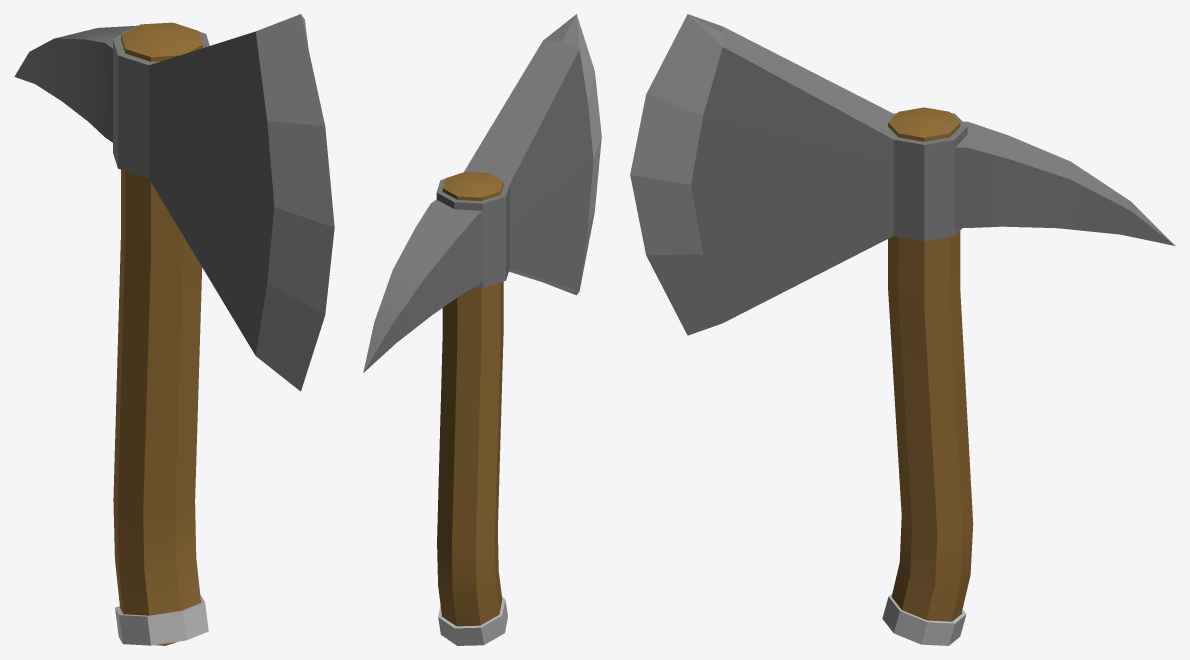
The model's file is AxePick.fbx.
The picture shows the model from 3 angles, left to right: view 1: azimuth 30°, elevation 25°; view 2: azimuth 150°, elevation 25°; view 3: azimuth 270°, elevation 25°; orthographic projection. The views are drawn at different scales.
Visible parts, largest first — view 1: Cube.001; view 2: Cube.001; view 3: Cube.001.
Part boxes in pixels (x1=…): Cube.001: x1=14, y1=14, x2=334, y2=645; Cube.001: x1=363, y1=14, x2=601, y2=645; Cube.001: x1=630, y1=14, x2=1175, y2=645.
Bounding box in the file's own units: 240 × 1902 × 1511.
